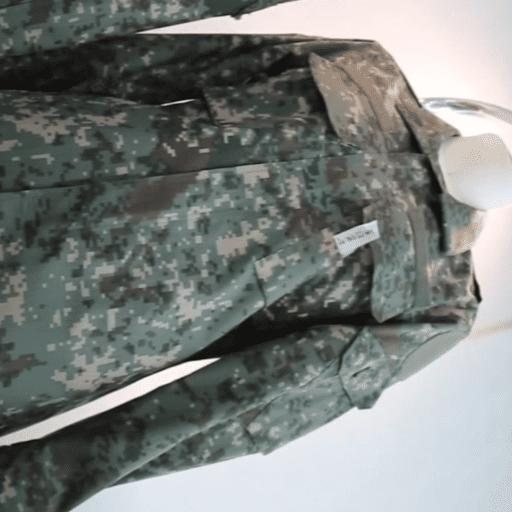korea army: (1, 16, 509, 507)
